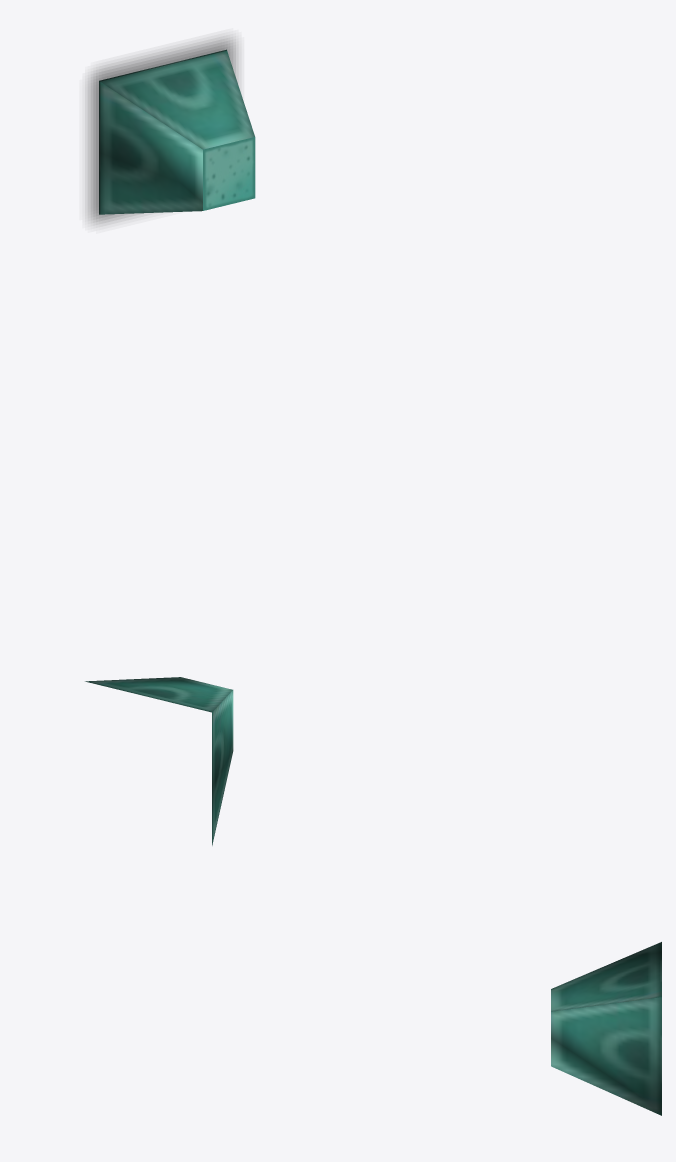
Rendered from prop_post_three_light.glb.
The picture shows the model from 3 angles, top to bottom: view 1: azimuth 30°, elevation 25°; view 2: azimuth 150°, elevation 25°; view 3: azimuth 270°, elevation 25°; orthographic projection. The views are drawn at different scales.
Parts seen in each view (by area): view 1: prop_post_sign_base__1, g9; view 2: prop_post_sign_base__1; view 3: prop_post_sign_base__1.
Boxes of the visible parts, <box> form: prop_post_sign_base__1: <box>99,49,255,214</box>; g9: <box>87,36,238,224</box>; prop_post_sign_base__1: <box>85,677,233,845</box>; prop_post_sign_base__1: <box>551,942,661,1115</box>.
Size of the model in its own units: 5.06 by 3.2 by 11.3.
Materials: 3 (3 with a texture image).
